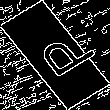P_SW: (19, 25, 91, 85)
